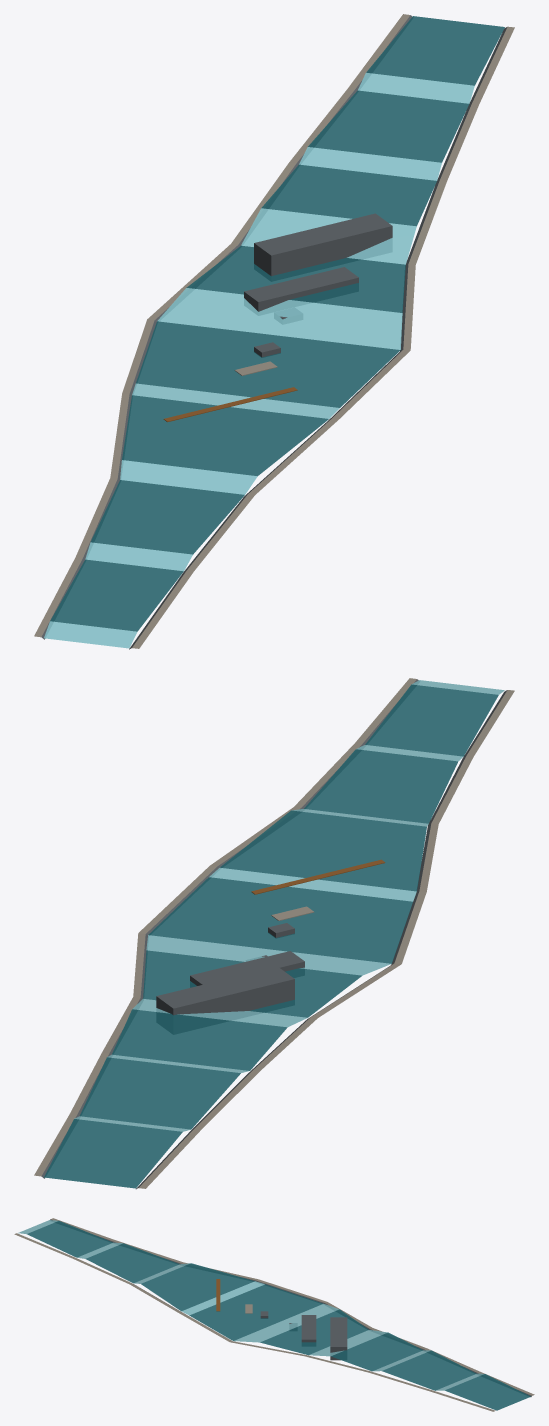
Rendered from water_thac_da_dang_lam_ha.glb.
3 renders of one model, top to bottom at view 1: azimuth 30°, elevation 25°; view 2: azimuth 210°, elevation 25°; view 3: azimuth 270°, elevation 25°, orthographic. The views are drawn at different scales.
Parts seen in each view (by area): view 1: water_terraces_water_thac_da_dang_lam_ha, waterfall_curtain_water_thac_da_dang_lam_ha, canyon_walkway_water_thac_da_dang_lam_ha, da_dang_three_tier_basalt_waterfall_cliff, basalt_canyon_embankments_water_thac_da_dang_lam_ha, da_dang_middle_stepped_basalt_terrace; view 2: water_terraces_water_thac_da_dang_lam_ha, waterfall_curtain_water_thac_da_dang_lam_ha, canyon_walkway_water_thac_da_dang_lam_ha, da_dang_three_tier_basalt_waterfall_cliff, basalt_canyon_embankments_water_thac_da_dang_lam_ha, da_dang_middle_stepped_basalt_terrace, da_dang_river_canyon_suspension_footbridge; view 3: water_terraces_water_thac_da_dang_lam_ha, waterfall_curtain_water_thac_da_dang_lam_ha, canyon_walkway_water_thac_da_dang_lam_ha, da_dang_three_tier_basalt_waterfall_cliff, da_dang_middle_stepped_basalt_terrace, basalt_canyon_embankments_water_thac_da_dang_lam_ha.
Boxes of the visible parts, x1,y1,x2,y2 form: water_terraces_water_thac_da_dang_lam_ha: [50, 16, 504, 631]; waterfall_curtain_water_thac_da_dang_lam_ha: [44, 72, 474, 648]; canyon_walkway_water_thac_da_dang_lam_ha: [34, 14, 514, 648]; da_dang_three_tier_basalt_waterfall_cliff: [254, 213, 392, 276]; basalt_canyon_embankments_water_thac_da_dang_lam_ha: [41, 15, 507, 649]; da_dang_middle_stepped_basalt_terrace: [244, 267, 358, 311]; water_terraces_water_thac_da_dang_lam_ha: [44, 684, 498, 1188]; waterfall_curtain_water_thac_da_dang_lam_ha: [74, 680, 504, 1131]; canyon_walkway_water_thac_da_dang_lam_ha: [34, 678, 514, 1188]; da_dang_three_tier_basalt_waterfall_cliff: [156, 966, 294, 1015]; basalt_canyon_embankments_water_thac_da_dang_lam_ha: [41, 679, 507, 1189]; da_dang_middle_stepped_basalt_terrace: [190, 951, 304, 985]; da_dang_river_canyon_suspension_footbridge: [251, 859, 385, 894]; water_terraces_water_thac_da_dang_lam_ha: [27, 1221, 530, 1410]; waterfall_curtain_water_thac_da_dang_lam_ha: [18, 1220, 483, 1390]; canyon_walkway_water_thac_da_dang_lam_ha: [14, 1218, 534, 1411]; da_dang_three_tier_basalt_waterfall_cliff: [330, 1317, 347, 1360]; da_dang_middle_stepped_basalt_terrace: [301, 1315, 316, 1342]; basalt_canyon_embankments_water_thac_da_dang_lam_ha: [50, 1219, 531, 1397].
Bounding box in the file's own units: 622 × 41.45 × 609.
